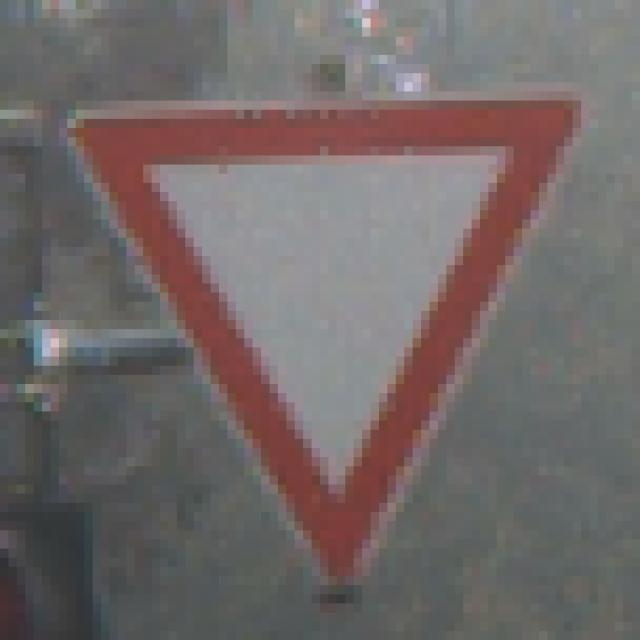Give Way: (60, 65, 590, 586)
